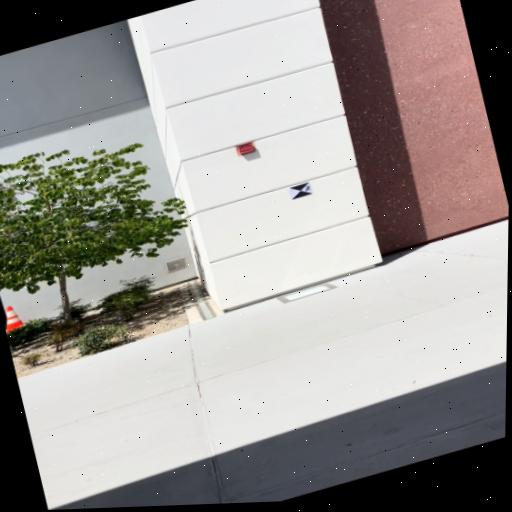target2: (289, 181, 314, 199)
